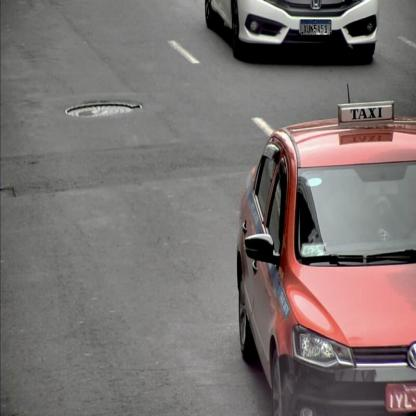PlacaM: (300, 20, 330, 36)
